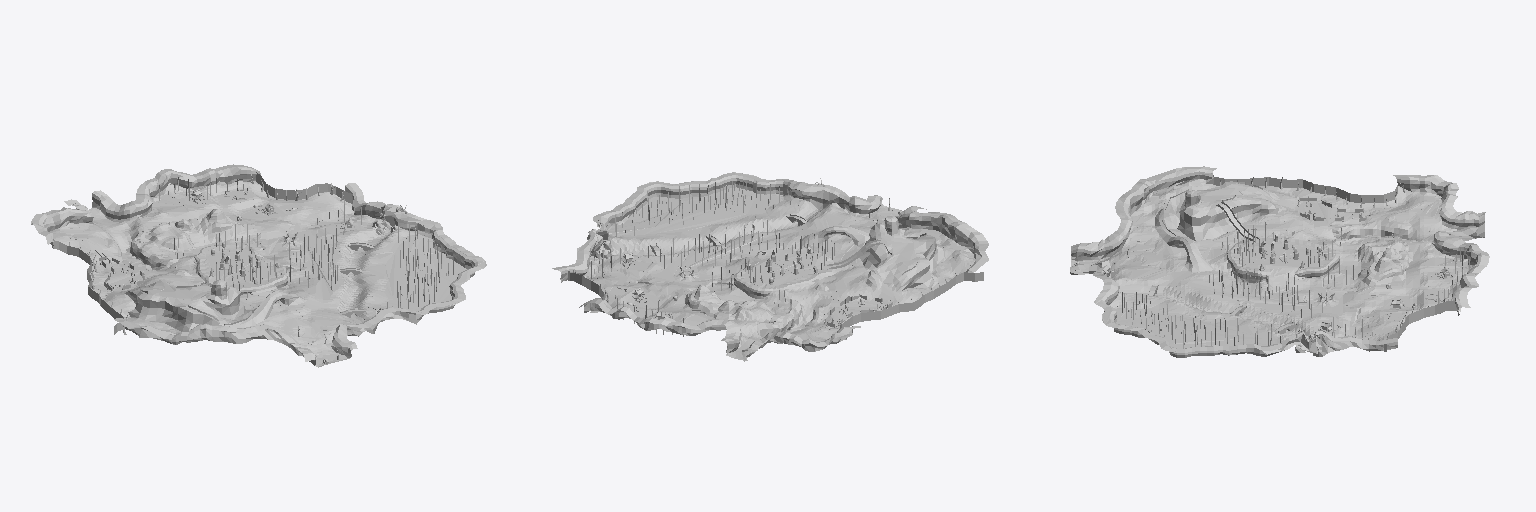
Rendered from styled.obj.
3 renders of one model, left to right at view 1: azimuth 30°, elevation 25°; view 2: azimuth 150°, elevation 25°; view 3: azimuth 270°, elevation 25°, orthographic.
Parts seen in each view (by area): view 1: land.007, bambo.001, wall.002; view 2: land.007, bambo.001, wall.002; view 3: land.007, wall.002, bambo.001.
Boxes of the visible parts, x1=… form: land.007: x1=31, y1=164, x2=486, y2=367; bambo.001: x1=159, y1=177, x2=453, y2=309; wall.002: x1=53, y1=172, x2=352, y2=334; land.007: x1=552, y1=172, x2=988, y2=361; bambo.001: x1=591, y1=181, x2=834, y2=336; wall.002: x1=568, y1=271, x2=983, y2=332; land.007: x1=1070, y1=166, x2=1489, y2=357; wall.002: x1=1213, y1=175, x2=1456, y2=351; bambo.001: x1=1122, y1=222, x2=1469, y2=348.
Size of the model in its own units: 82.46 by 11.48 by 83.6.